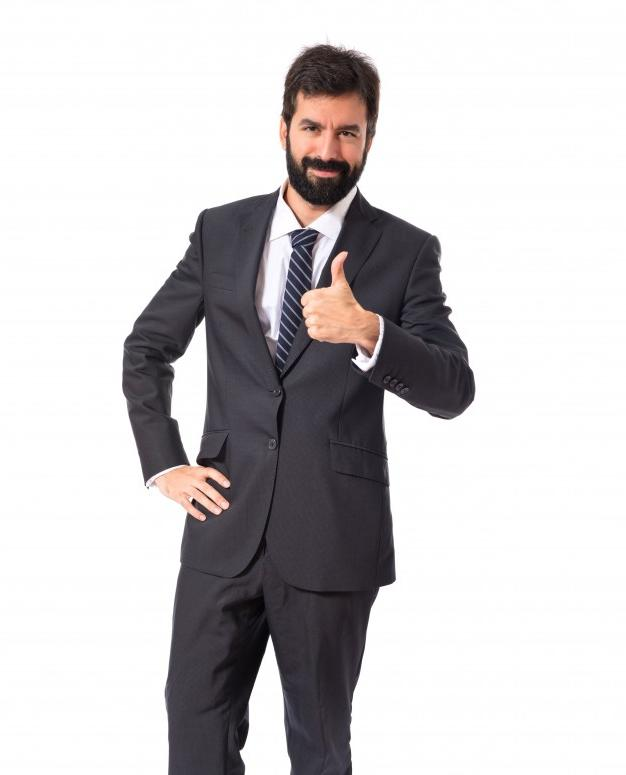thumbsup: (301, 251, 349, 341)
